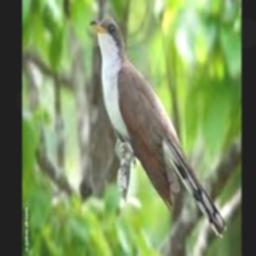Cuckoo: (90, 17, 227, 239)
